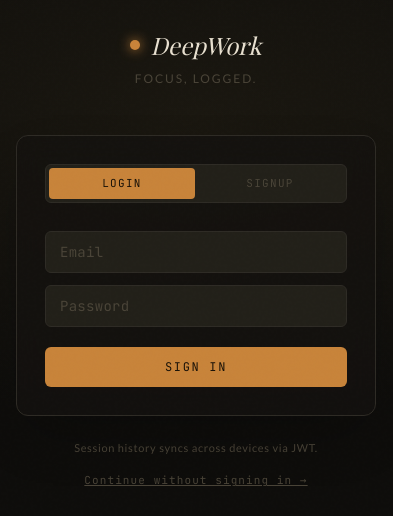
Test: AuthUI (AuthScreen Component) › should handle API error gracefully
Type "user@example.com" into the field with placeholder "Email".
click(196, 252); type("user@example.com")  # box [45,231,347,273]
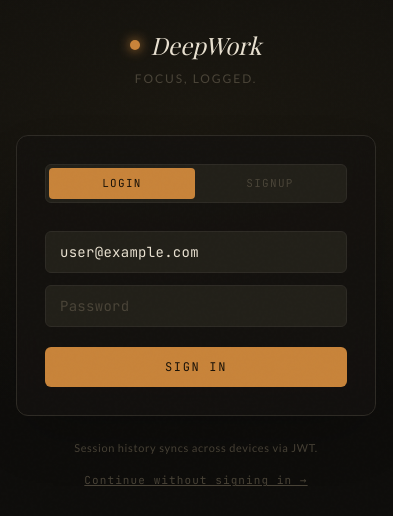
Type "pass123" into the password field with placeholder "Password".
click(196, 306); type("pass123")  # box [45,285,347,327]
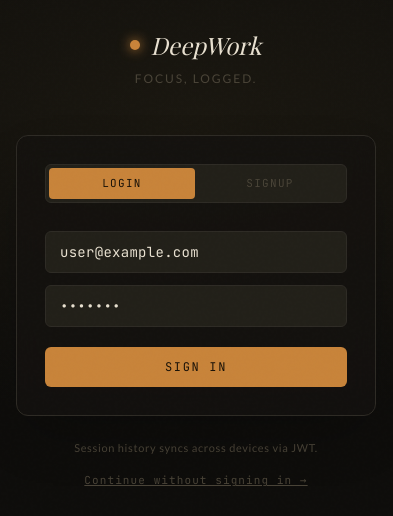
Click the button "SIGN IN".
click(196, 367)  # box [45,347,347,387]
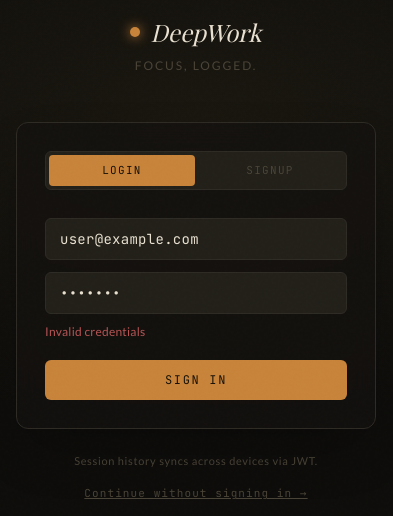
Check: the text "Invalid credentials" is shown, box [45,324,145,339]
